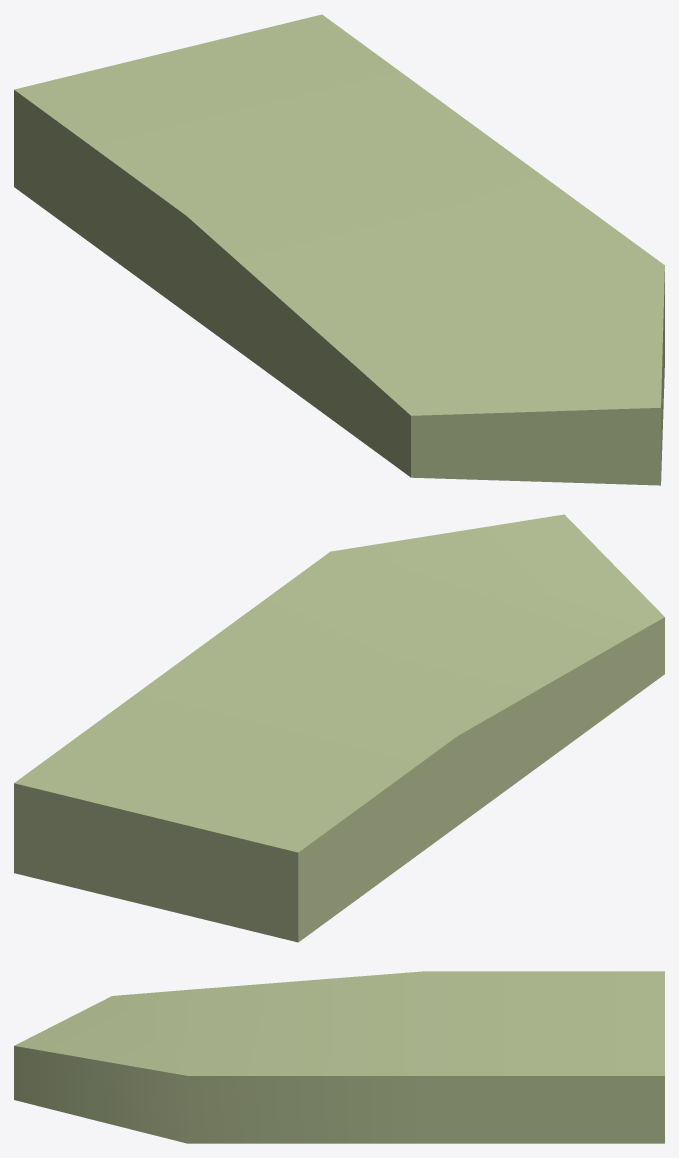
Rendered from ground_4.gltf.
3 renders of one model, top to bottom at view 1: azimuth 30°, elevation 25°; view 2: azimuth 150°, elevation 25°; view 3: azimuth 270°, elevation 25°, orthographic. The views are drawn at different scales.
Visible parts, largest first — view 1: songjae_hospital; view 2: songjae_hospital; view 3: songjae_hospital.
Part boxes in pixels (x1=…): songjae_hospital: x1=14, y1=14, x2=664, y2=485; songjae_hospital: x1=14, y1=514, x2=664, y2=942; songjae_hospital: x1=14, y1=971, x2=664, y2=1143.
Size of the model in its own units: 8.11 by 2.45 by 21.32.
